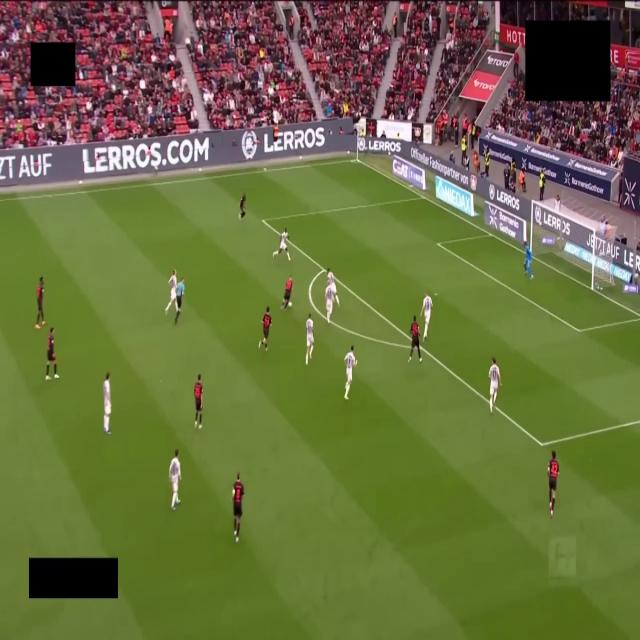ball: (288, 302, 292, 307)
player: (233, 472, 244, 543), (169, 449, 181, 510), (344, 345, 357, 399), (548, 451, 558, 518), (489, 358, 501, 413), (46, 327, 58, 380), (409, 316, 421, 362), (273, 228, 290, 260), (35, 276, 45, 329), (259, 307, 271, 351), (165, 270, 177, 313), (103, 372, 111, 435), (422, 293, 432, 341), (327, 269, 339, 306), (194, 375, 202, 429), (306, 313, 314, 365), (524, 241, 533, 279), (282, 276, 292, 309), (325, 286, 333, 322), (238, 193, 246, 219)
referee: (175, 278, 184, 324)
